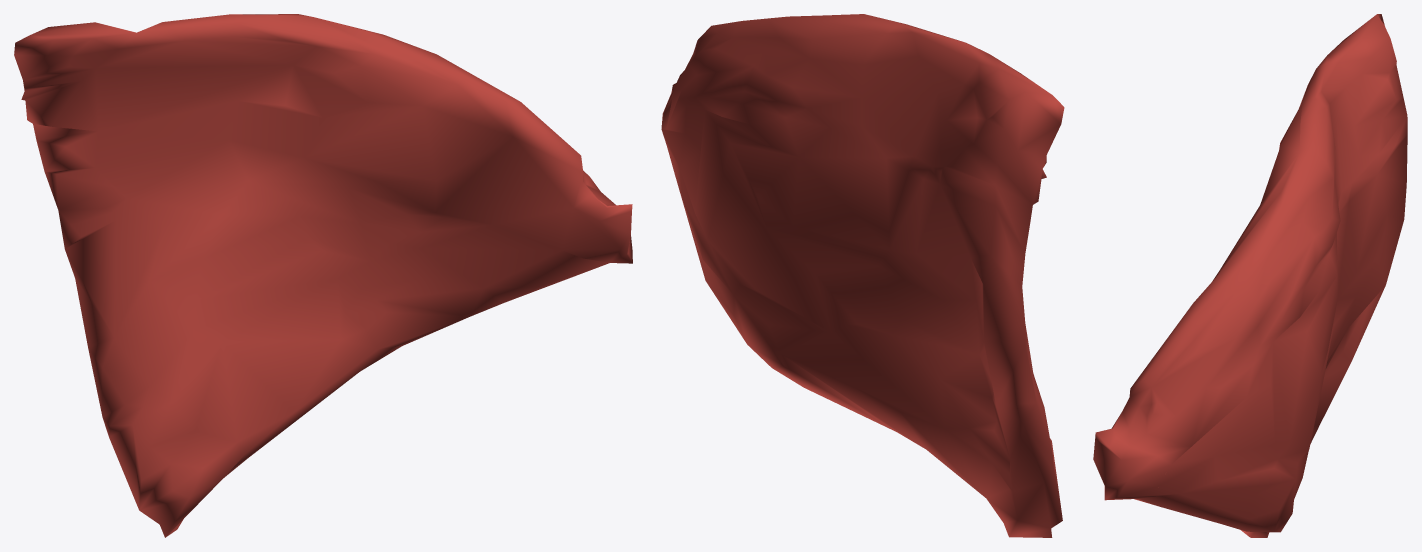
File: musculos-transverse-head-of-adductor-pollicis-l.glb
3 views of the same model, side by side, from view 1: azimuth 30°, elevation 25°; view 2: azimuth 150°, elevation 25°; view 3: azimuth 270°, elevation 25° (orthographic). The views are drawn at different scales.
Parts seen in each view (by area): view 1: Transverse head of adductor pollicis.l; view 2: Transverse head of adductor pollicis.l; view 3: Transverse head of adductor pollicis.l.
Boxes of the visible parts, bbox=[...] form: Transverse head of adductor pollicis.l: bbox=[14, 14, 632, 537]; Transverse head of adductor pollicis.l: bbox=[661, 14, 1064, 537]; Transverse head of adductor pollicis.l: bbox=[1093, 14, 1407, 537].
Bounding box in the file's own units: 0.0427 × 0.0394 × 0.0231.
